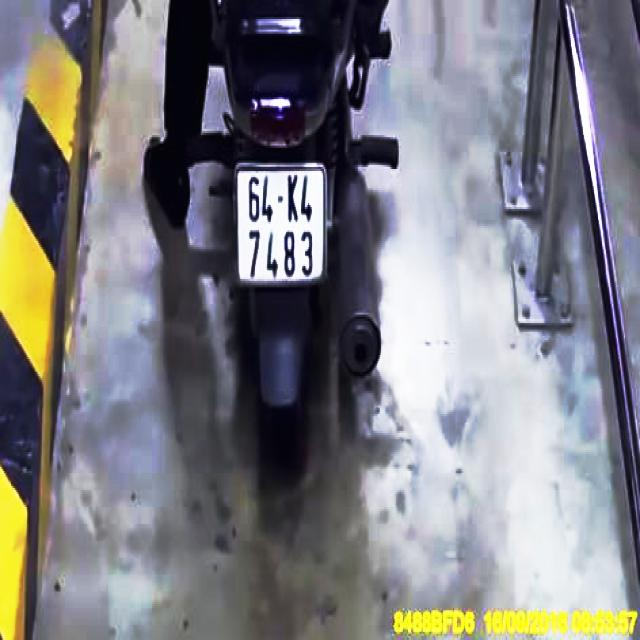license_plate: (238, 166, 325, 278)
